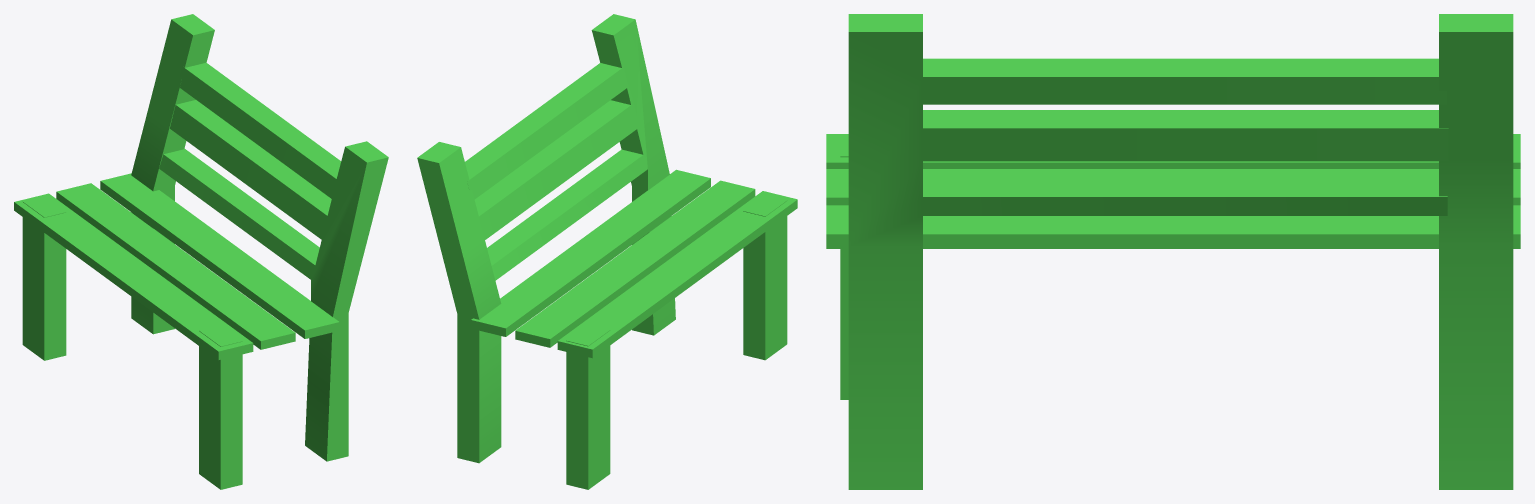
The model's file is Banco.fbx.
The picture shows the model from 3 angles, left to right: view 1: azimuth 30°, elevation 25°; view 2: azimuth 150°, elevation 25°; view 3: azimuth 270°, elevation 25°; orthographic projection. The views are drawn at different scales.
Visible parts, largest first — view 1: Box007; view 2: Box007; view 3: Box007.
Boxes of the visible parts, <box> form: Box007: <box>14,14,388,489</box>; Box007: <box>417,14,797,489</box>; Box007: <box>826,14,1520,489</box>.
Size of the model in its own units: 64.18 by 100 by 128.
